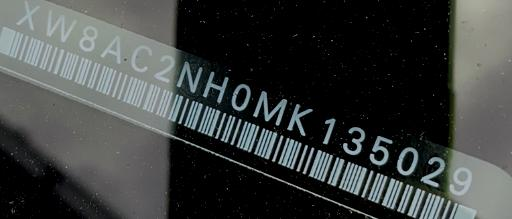letter: (252, 88, 288, 127), (45, 7, 79, 43), (200, 69, 230, 105), (286, 102, 316, 137), (368, 132, 394, 167), (14, 0, 42, 32), (176, 60, 202, 92), (420, 155, 446, 187), (395, 144, 419, 178), (448, 166, 474, 196), (342, 124, 366, 156), (100, 33, 124, 65), (154, 52, 176, 84), (230, 82, 252, 111), (130, 45, 152, 73), (77, 25, 99, 52), (321, 114, 337, 147)
